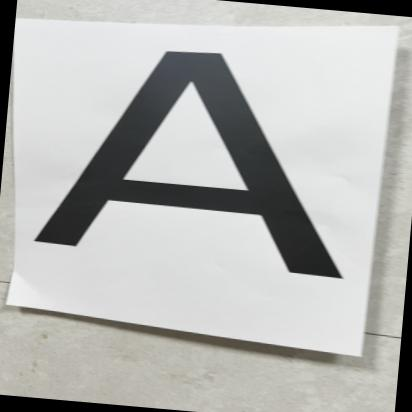seat: (15, 30, 396, 312)
